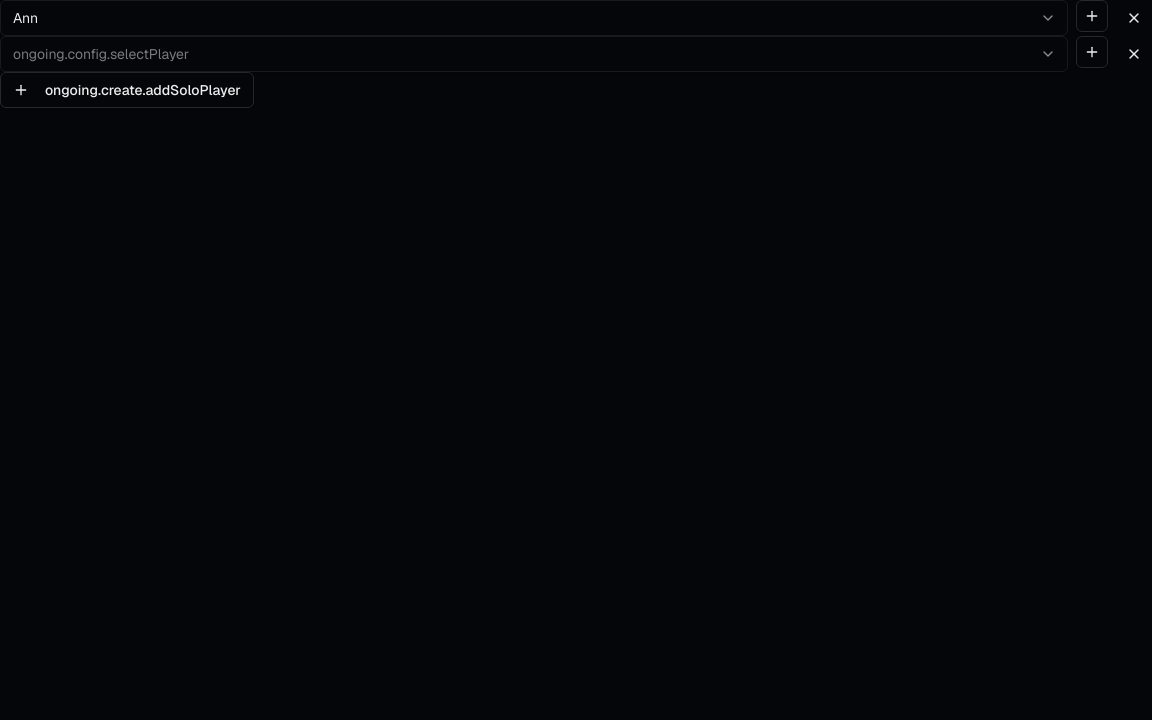
Test case: SoloPlayerDraftEditor › does not offer a player already picked in another row
Press the mouse on the dropdown with id "solo-1" at (534, 54), box [0,36,1068,72]
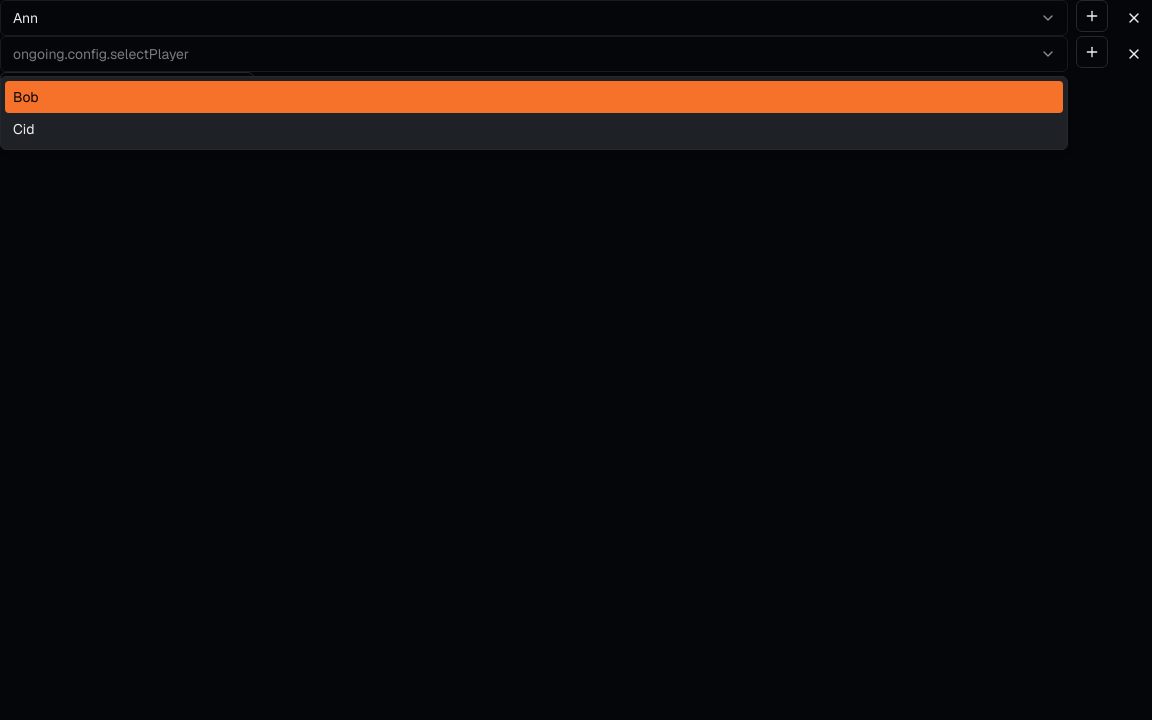
expect the text "Bob" is shown: met, box [13,88,39,106]
